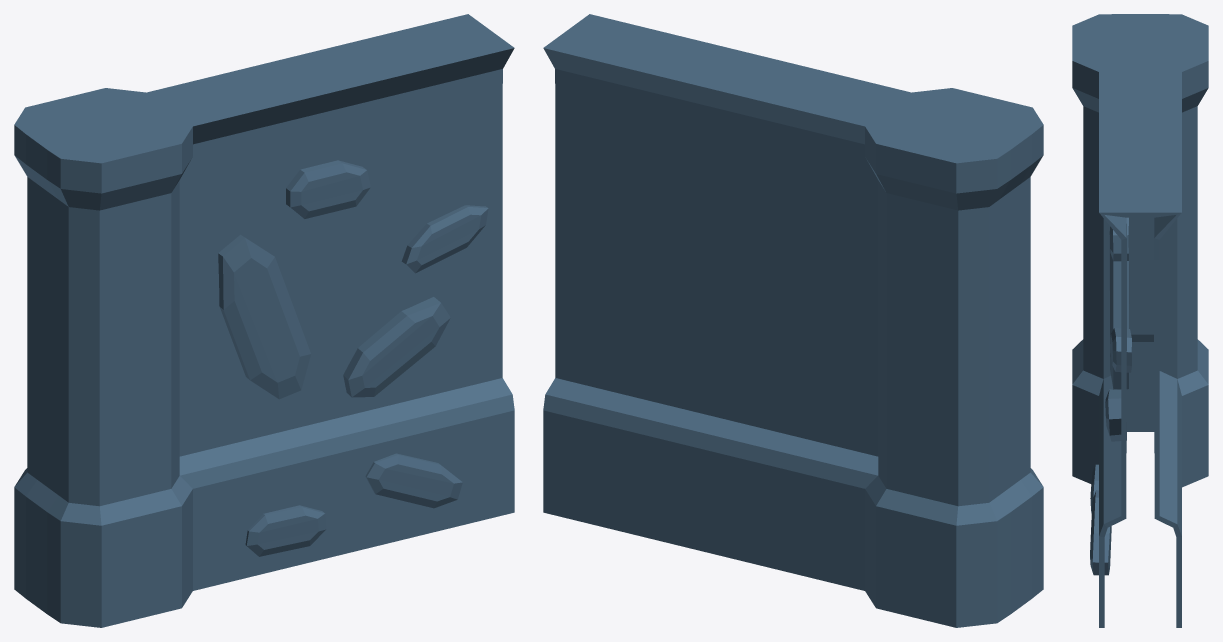
The model's file is Dungeon_Wall_B.fbx.
3 views of the same model, side by side, from view 1: azimuth 30°, elevation 25°; view 2: azimuth 150°, elevation 25°; view 3: azimuth 270°, elevation 25° (orthographic). The views are drawn at different scales.
Visible parts, largest first — view 1: Wall.2; view 2: Wall.2; view 3: Wall.2.
Boxes of the visible parts, <box> form: Wall.2: <box>14,14,514,627</box>; Wall.2: <box>543,14,1043,627</box>; Wall.2: <box>1072,14,1208,627</box>.
Bounding box in the file's own units: 4.11 × 4 × 1.19.
